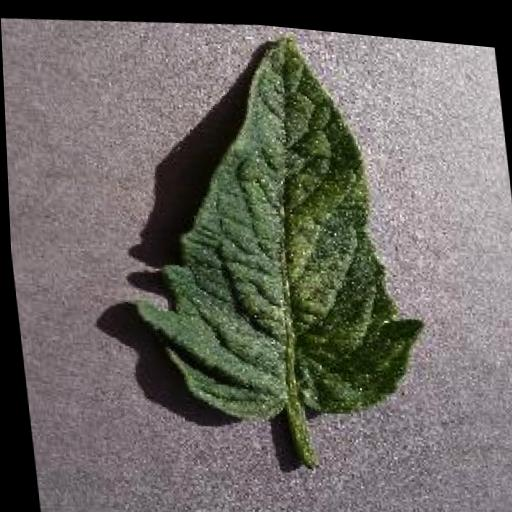Spider Mites: (103, 9, 433, 434)
